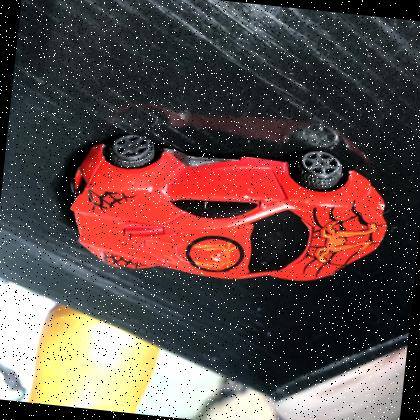Car: (67, 131, 388, 281)
